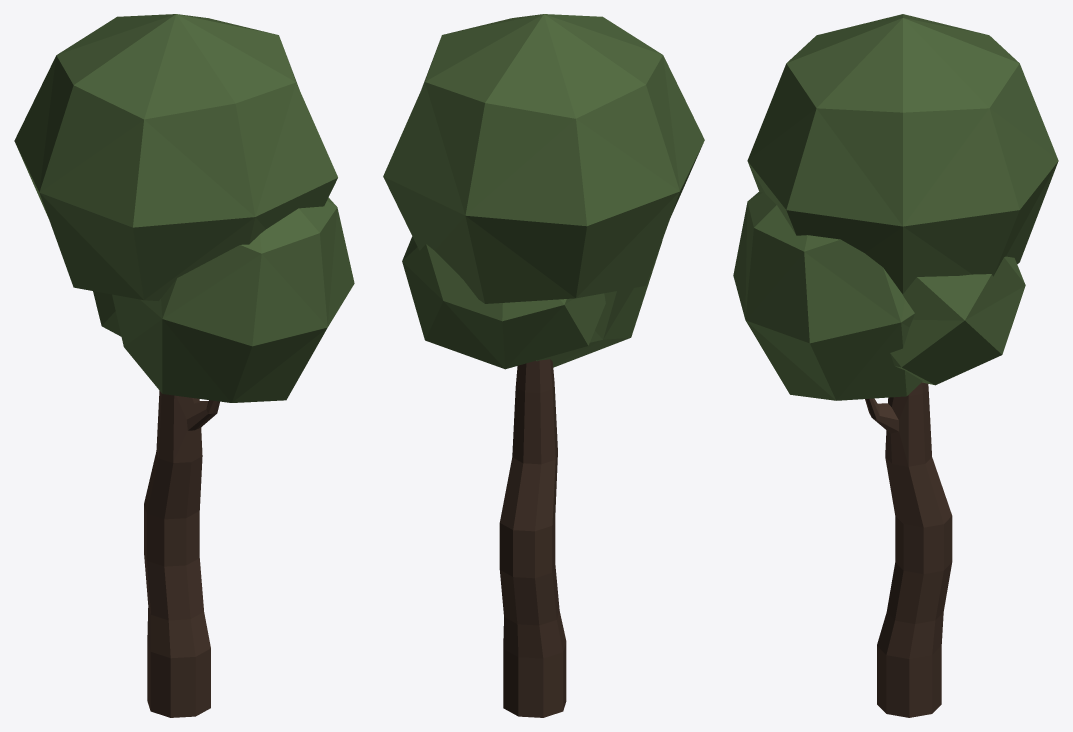
File: LittleTree.fbx
3 renders of one model, left to right at view 1: azimuth 30°, elevation 25°; view 2: azimuth 150°, elevation 25°; view 3: azimuth 270°, elevation 25°, orthographic.
Parts seen in each view (by area): view 1: pCube13, pCube14, pCylinder1, pCube15; view 2: pCube13, pCylinder1, pCube15, pCube14; view 3: pCube13, pCube14, pCylinder1, pCube15.
Part boxes in pixels (x1,y1,x2,y2): pCube13: [14, 14, 337, 300]; pCube14: [112, 197, 354, 402]; pCylinder1: [144, 390, 219, 717]; pCube15: [93, 291, 121, 336]; pCube13: [383, 14, 704, 303]; pCylinder1: [499, 359, 566, 717]; pCube15: [402, 236, 605, 369]; pCube14: [536, 240, 662, 367]; pCube13: [747, 14, 1058, 293]; pCube14: [733, 192, 922, 400]; pCylinder1: [865, 382, 952, 717]; pCube15: [890, 256, 1025, 385].
Bounding box in the file's own units: 9.59 × 23.24 × 10.02.
